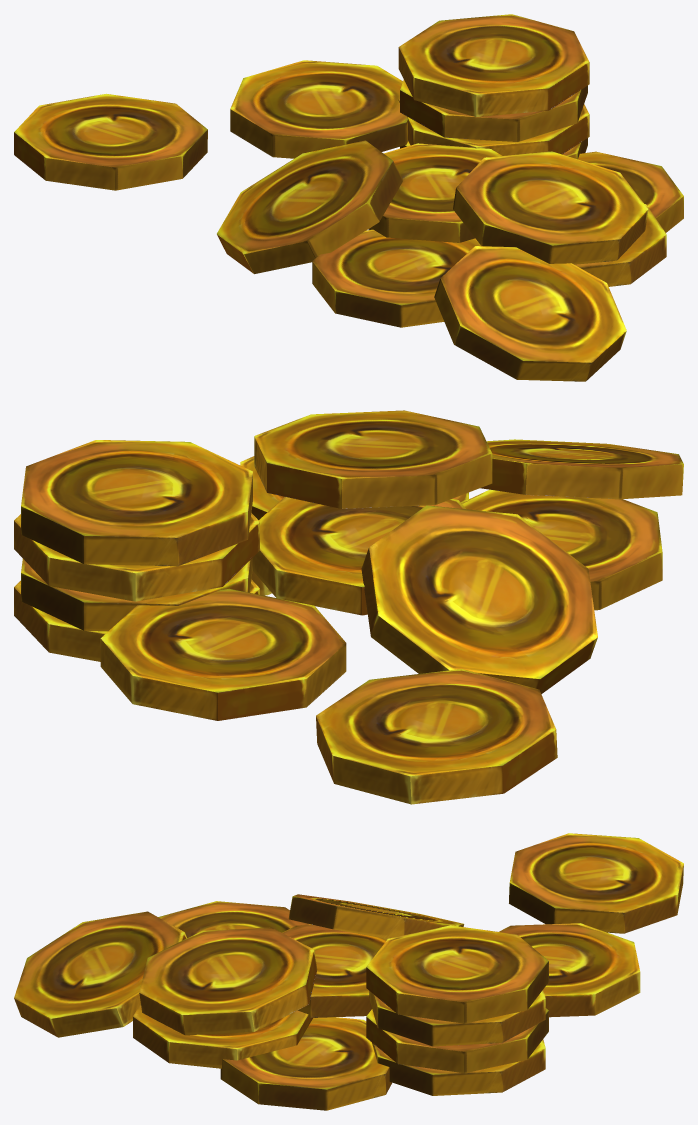
The model's file is Coin_Pile_3.fbx.
3 views of the same model, one above another, from view 1: azimuth 30°, elevation 25°; view 2: azimuth 150°, elevation 25°; view 3: azimuth 270°, elevation 25° (orthographic). The views are drawn at different scales.
Visible parts, largest first — view 1: Coin_Pile_3; view 2: Coin_Pile_3; view 3: Coin_Pile_3.
Boxes of the visible parts, x1=… form: Coin_Pile_3: x1=14, y1=14, x2=683, y2=381; Coin_Pile_3: x1=14, y1=410, x2=683, y2=804; Coin_Pile_3: x1=14, y1=833, x2=683, y2=1110.
Bounding box in the file's own units: 62.5 × 15.19 × 78.63.
